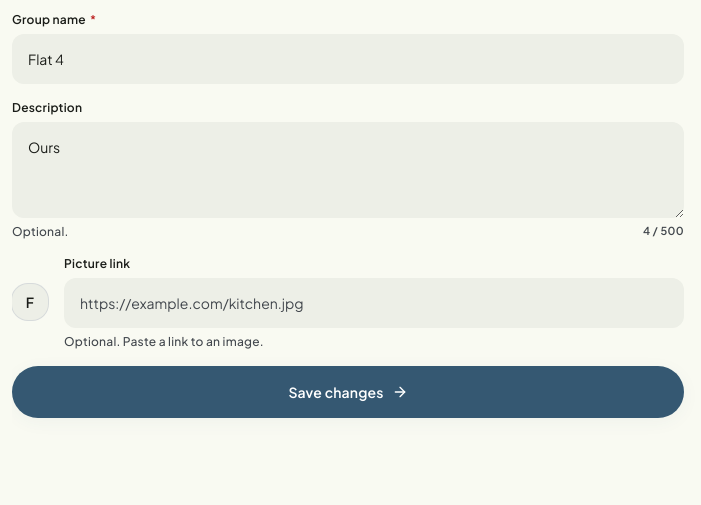
Scenario: EditGroupForm › reports a refusal above the form
Click the button "Save changes" at (348, 392), box [12,366,684,418]
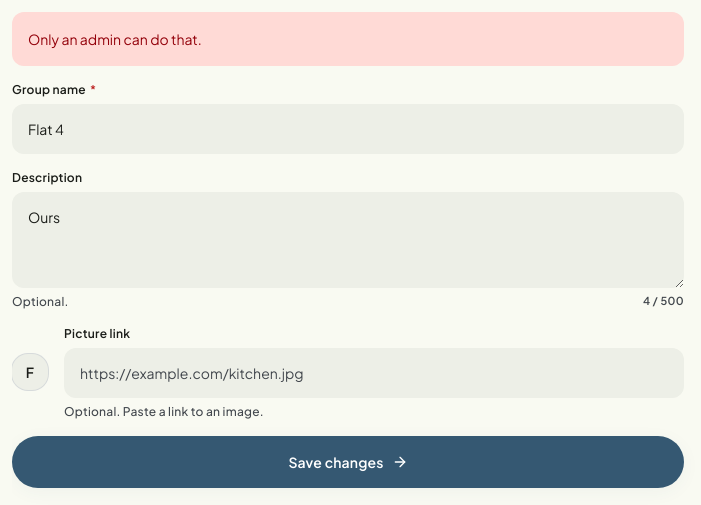
Result: the message reads "Only an admin can do that." at [28,30,202,48]
